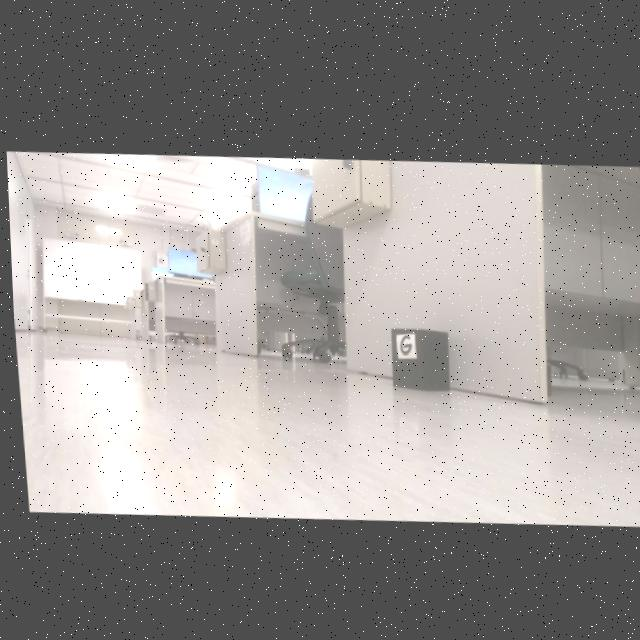G: (397, 330, 408, 349)
